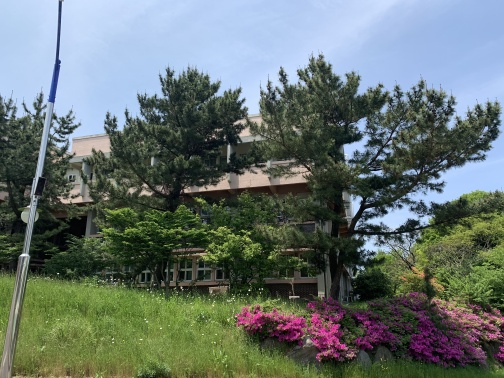College Of Education: (3, 101, 377, 312)
